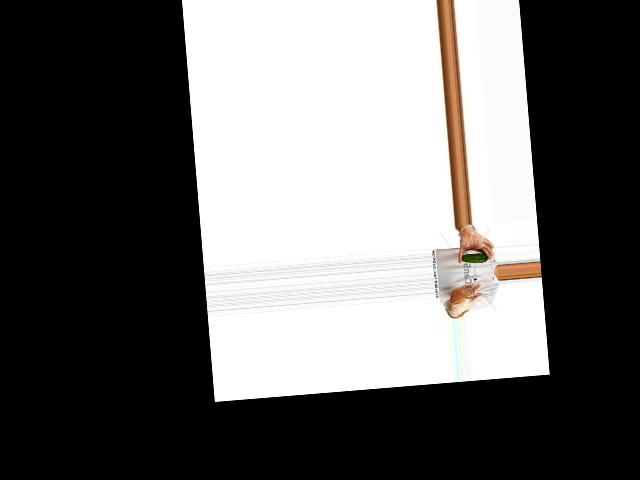cucumber: (461, 251, 488, 263)
